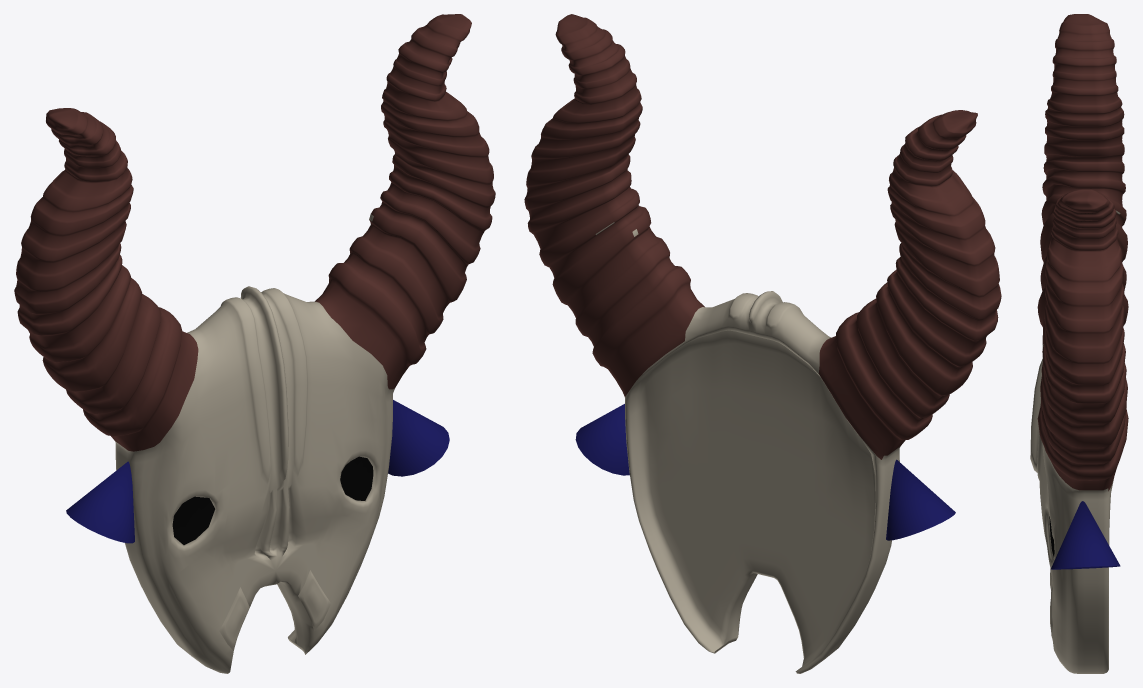
The model's file is cultist.fbx.
3 renders of one model, left to right at view 1: azimuth 30°, elevation 25°; view 2: azimuth 150°, elevation 25°; view 3: azimuth 270°, elevation 25°, orthographic. The views are drawn at different scales.
Visible parts, largest first — view 1: mask2; view 2: mask2; view 3: mask2.
Boxes of the visible parts, box(x1,y1,x2,y2) form: mask2: box(14, 14, 495, 673); mask2: box(524, 14, 1001, 673); mask2: box(1030, 14, 1128, 673).
Bounding box in the file's own units: 10.19 × 12.4 × 2.01.
